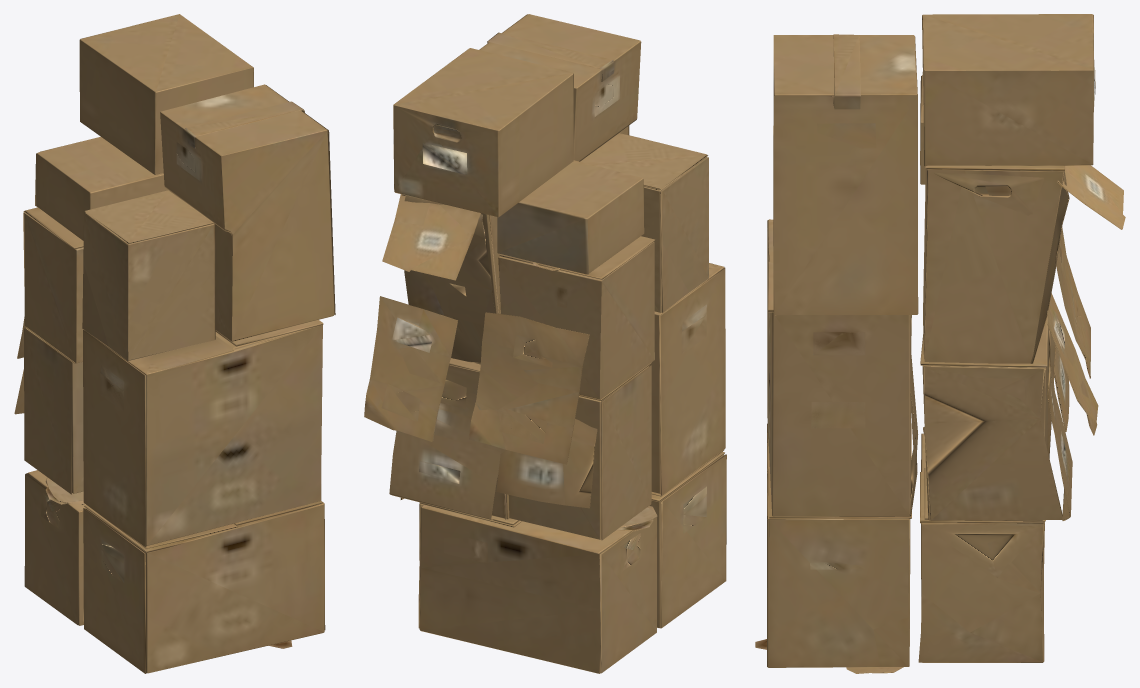
File: office-archive-boxes.glb
3 renders of one model, left to right at view 1: azimuth 30°, elevation 25°; view 2: azimuth 150°, elevation 25°; view 3: azimuth 270°, elevation 25°, orthographic. The views are drawn at different scales.
Parts seen in each view (by area): view 1: archive-boxes; view 2: archive-boxes; view 3: archive-boxes.
Part boxes in pixels (x1,y1,x2,y2): archive-boxes: [14, 14, 335, 673]; archive-boxes: [364, 14, 726, 673]; archive-boxes: [755, 14, 1125, 673].
Bounding box in the file's own units: 0.578 × 1.3 × 0.7307.
1 material, 1 textured.
